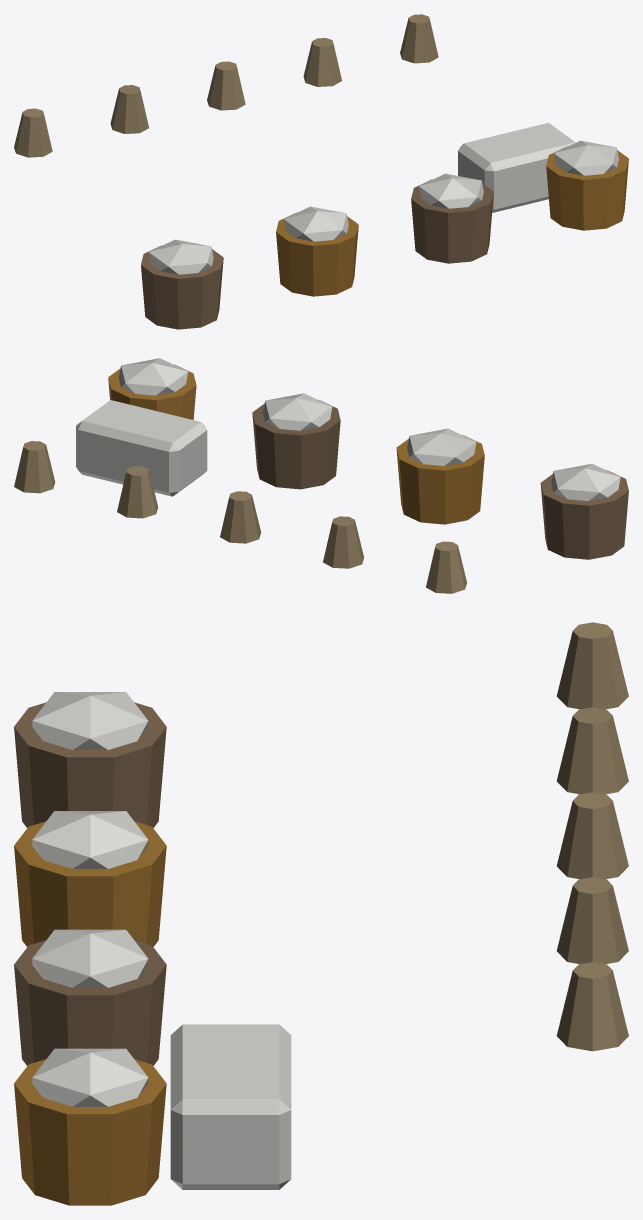
File: goods_salt.glb
The picture shows the model from 3 angles, top to bottom: view 1: azimuth 30°, elevation 25°; view 2: azimuth 150°, elevation 25°; view 3: azimuth 270°, elevation 25°; orthographic projection. The views are drawn at different scales.
Parts seen in each view (by area): view 1: goods_salt; view 2: goods_salt; view 3: goods_salt.
Part boxes in pixels (box(x1,y1,x2,y2)): goods_salt: box(14, 14, 628, 329); goods_salt: box(14, 358, 628, 593); goods_salt: box(14, 622, 628, 1205).
Size of the model in its own units: 2.46 by 0.5 by 1.53.
